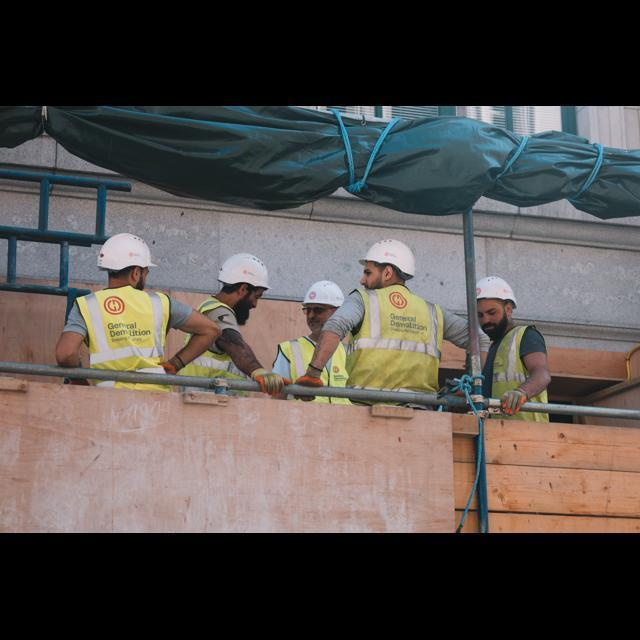helmet: (340, 228, 448, 298), (74, 218, 178, 284), (208, 246, 288, 296), (458, 272, 544, 313), (292, 266, 354, 318)
safety_vest: (348, 282, 478, 398), (471, 306, 577, 422), (68, 292, 203, 378), (166, 297, 286, 384), (270, 340, 356, 418)
